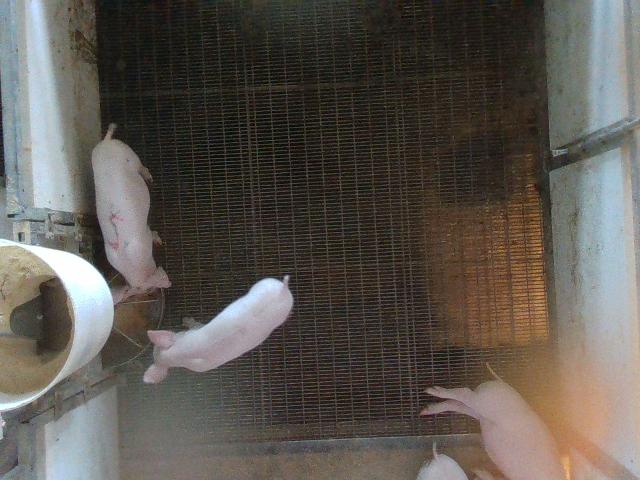pig-5: (91, 124, 171, 303)
